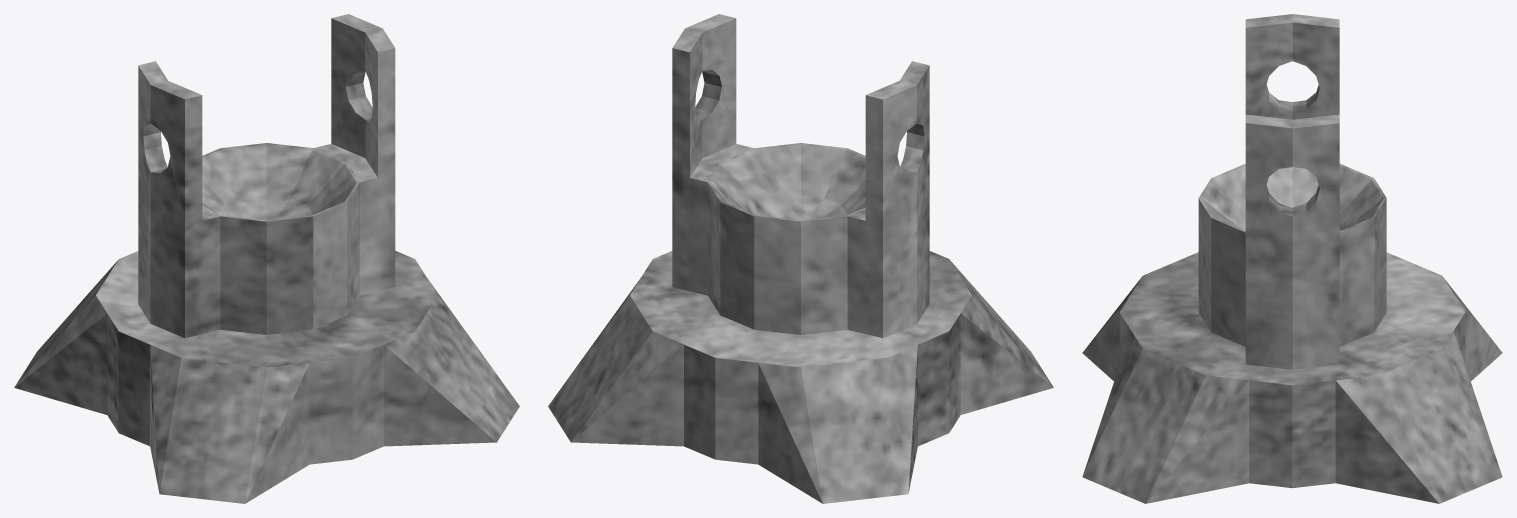
The model's file is WallGunBase.obj.
3 renders of one model, left to right at view 1: azimuth 30°, elevation 25°; view 2: azimuth 150°, elevation 25°; view 3: azimuth 270°, elevation 25°, orthographic.
Parts seen in each view (by area): view 1: Cube; view 2: Cube; view 3: Cube.
Boxes of the visible parts, box(x1,y1,x2,y2) form: Cube: box(14, 14, 519, 503); Cube: box(548, 14, 1053, 503); Cube: box(1082, 14, 1502, 503).
Size of the model in its own units: 4.91 by 4.43 by 4.91.
